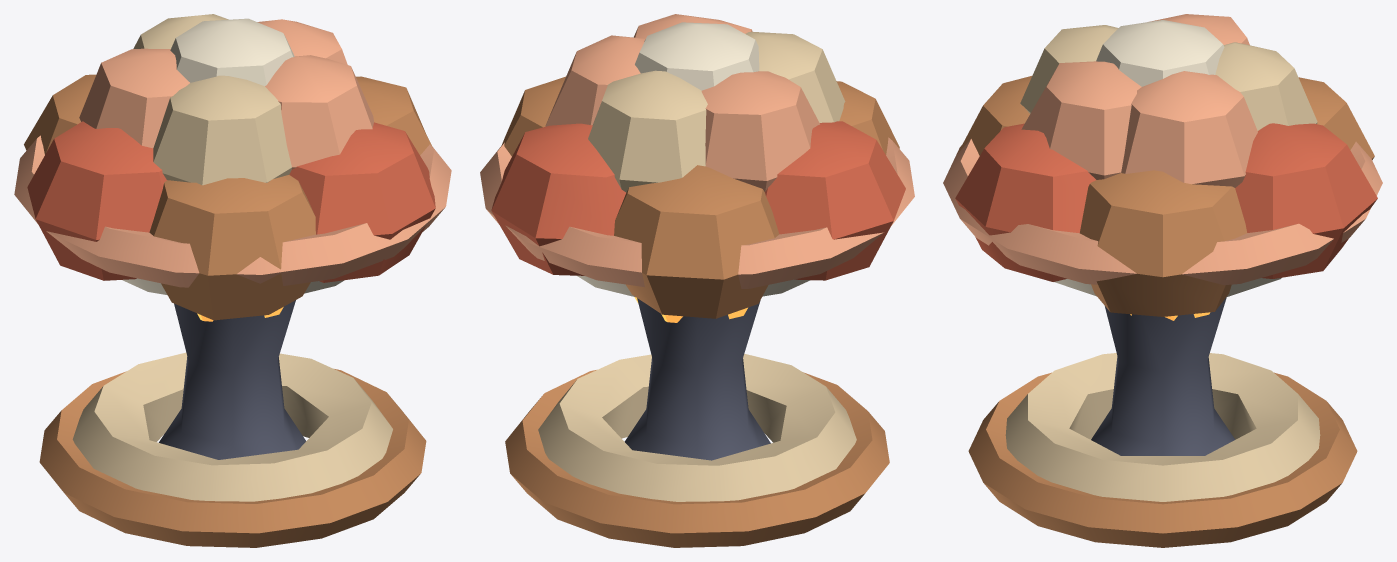
Rendered from mushroom_cloud.glb.
3 renders of one model, left to right at view 1: azimuth 30°, elevation 25°; view 2: azimuth 150°, elevation 25°; view 3: azimuth 270°, elevation 25°, orthographic.
Visible parts, largest first — view 1: mushroom_cloud; view 2: mushroom_cloud; view 3: mushroom_cloud.
Part boxes in pixels (left/top/right/bottom): mushroom_cloud: left=14, top=14, right=451, bottom=547; mushroom_cloud: left=480, top=14, right=914, bottom=547; mushroom_cloud: left=943, top=14, right=1382, bottom=547.
Bounding box in the file's own units: 1.06 × 1.17 × 1.04.
Materials: 1 (1 with a texture image).
